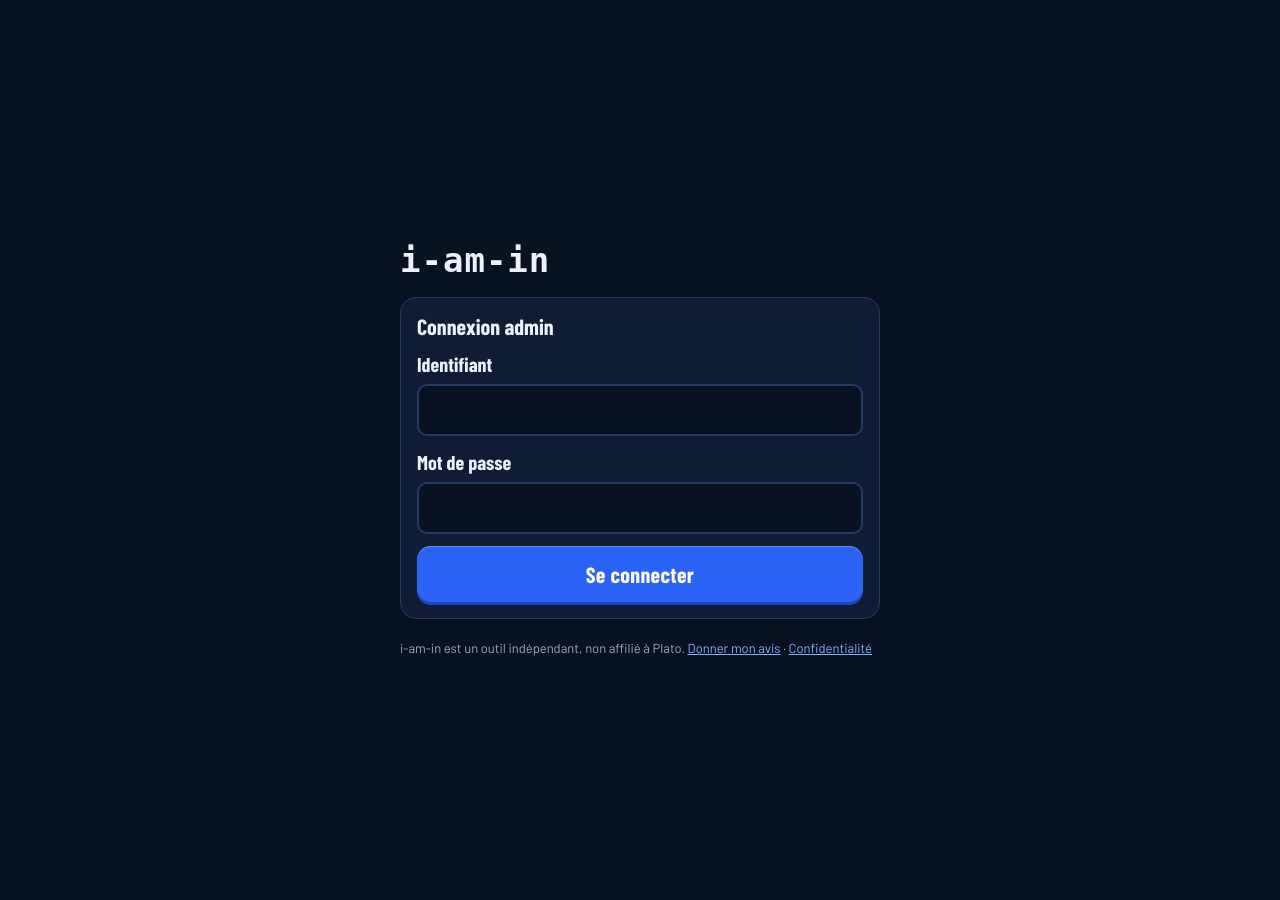
Test: connexion › connecte, puis affiche les tournois du groupe
Type "alice" into the field labelled "Identifiant" at x=640, y=410, box [417, 384, 863, 436]
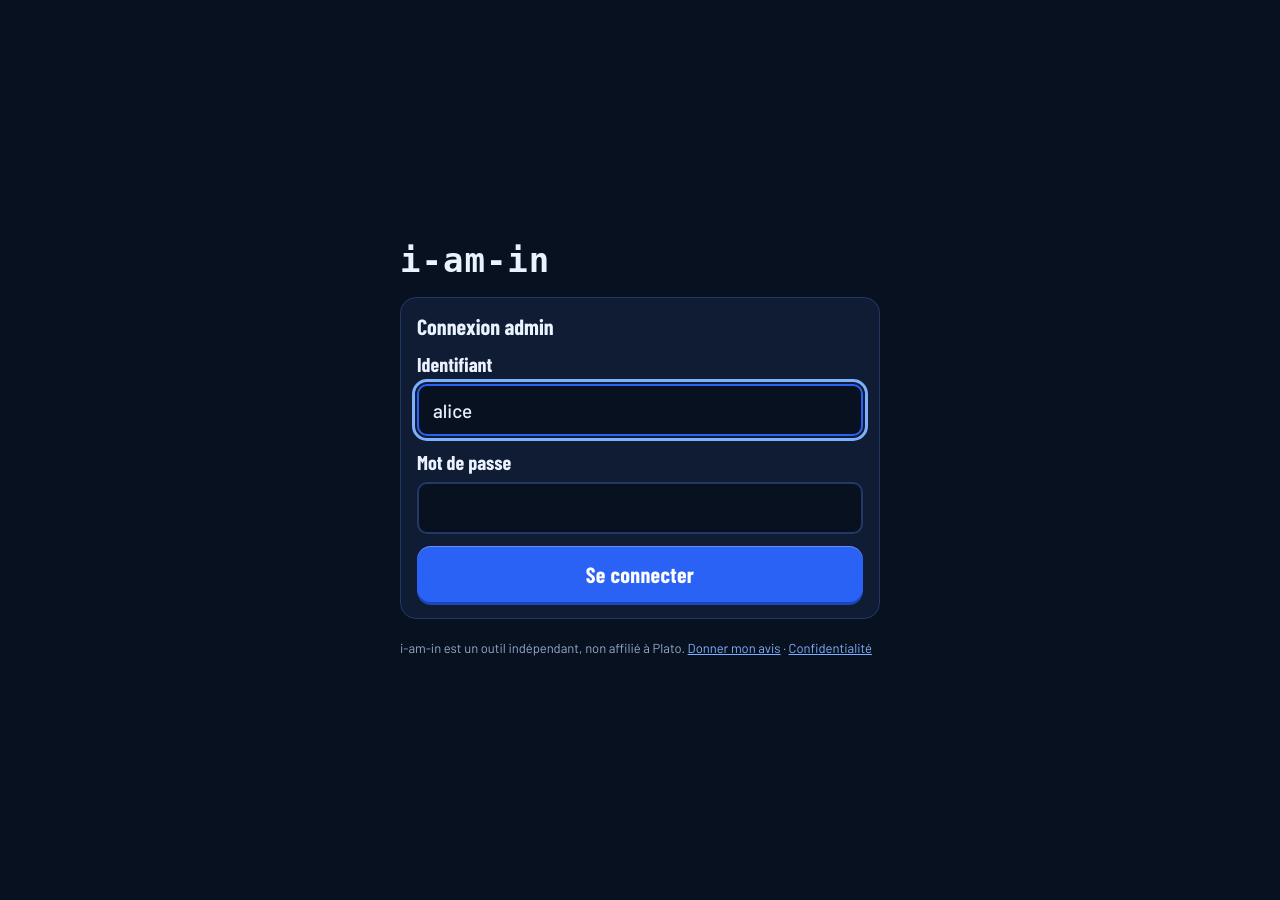
Type "un-mot-de-passe-de-test" into the password field labelled "Mot de passe" at x=640, y=508, box [417, 482, 863, 534]
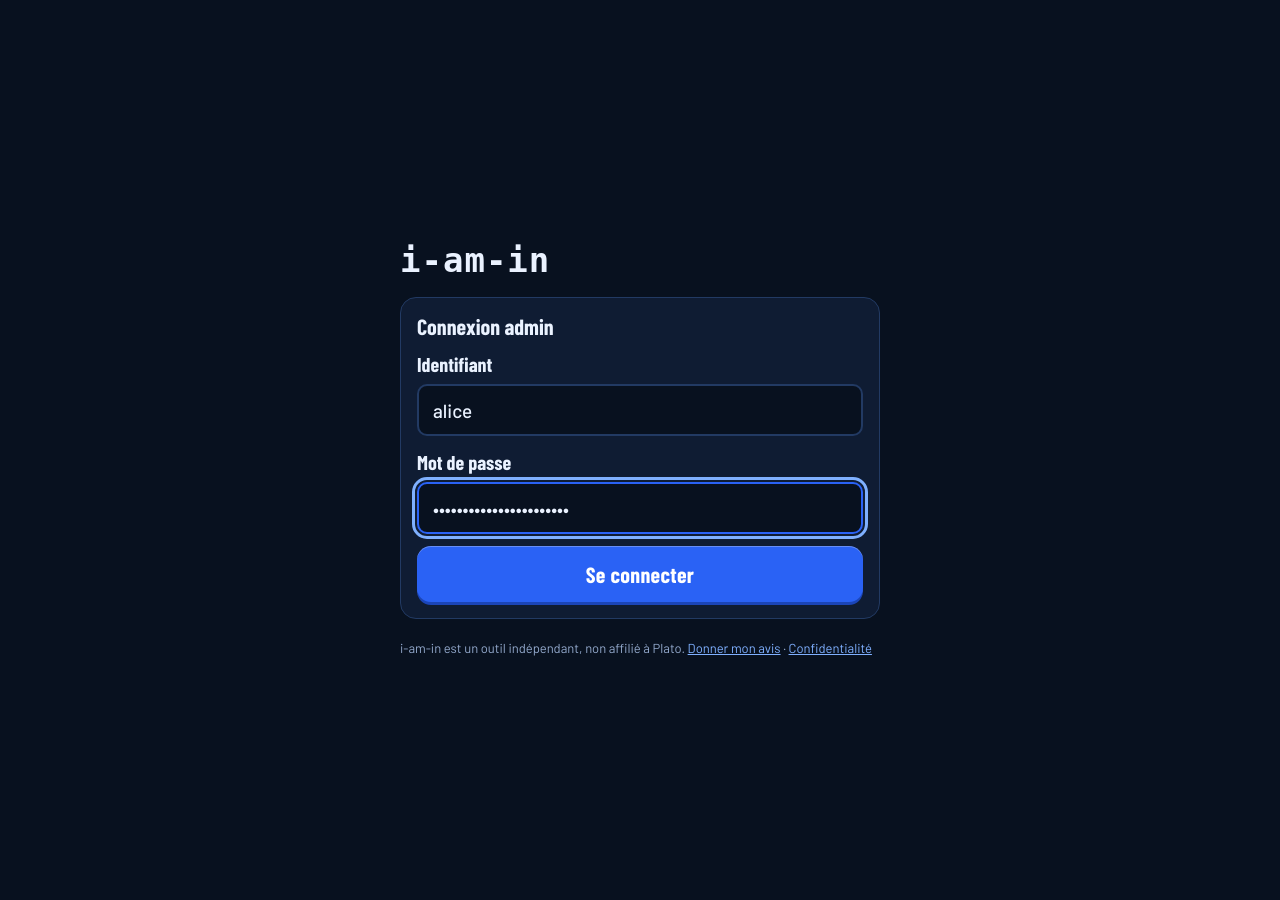
Click the button "Se connecter" at x=640, y=574, box [417, 546, 863, 602]
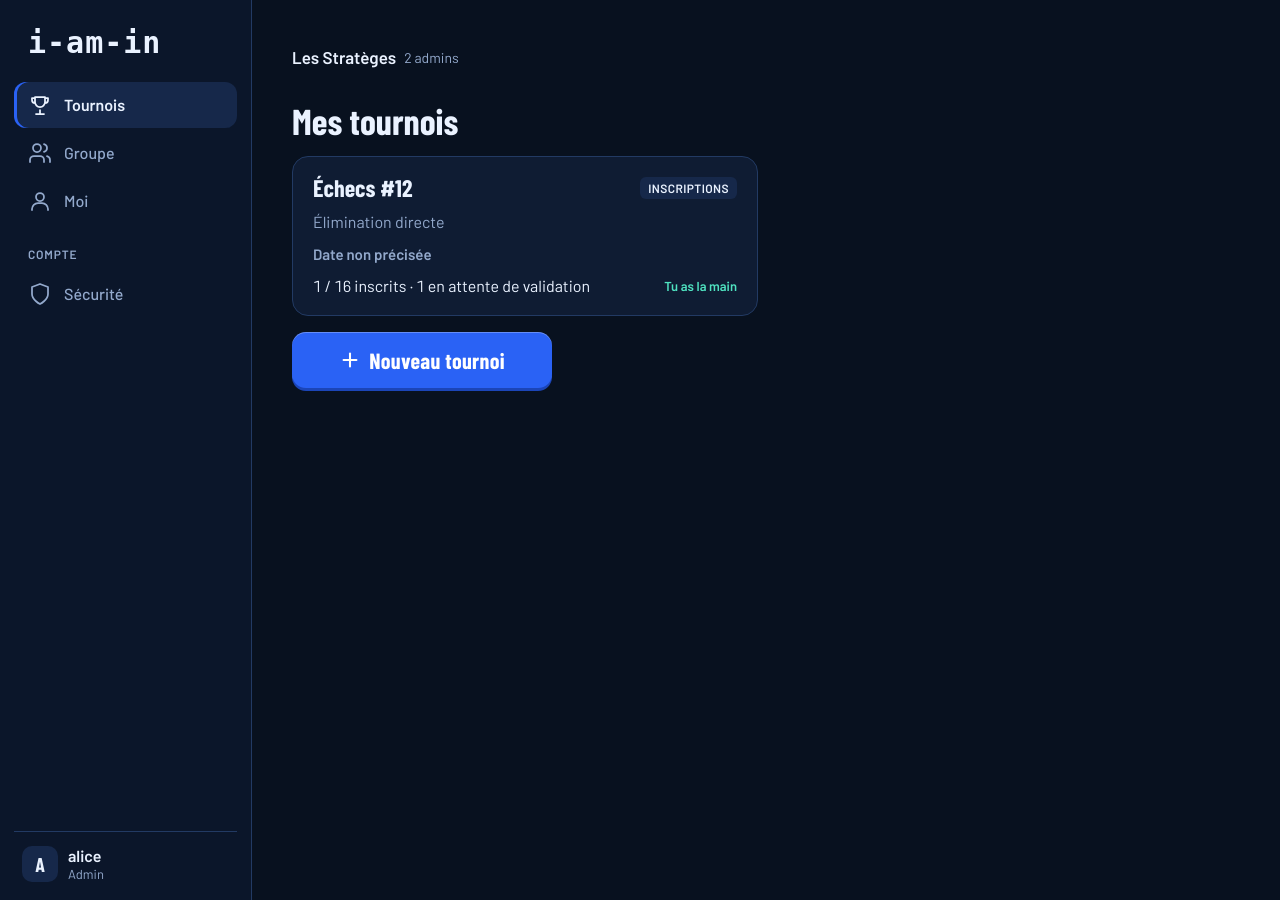
Result: the text "Échecs #12" is shown at [313, 175, 412, 201]
Result: the text "Tu as la main" is shown at [664, 277, 737, 295]
